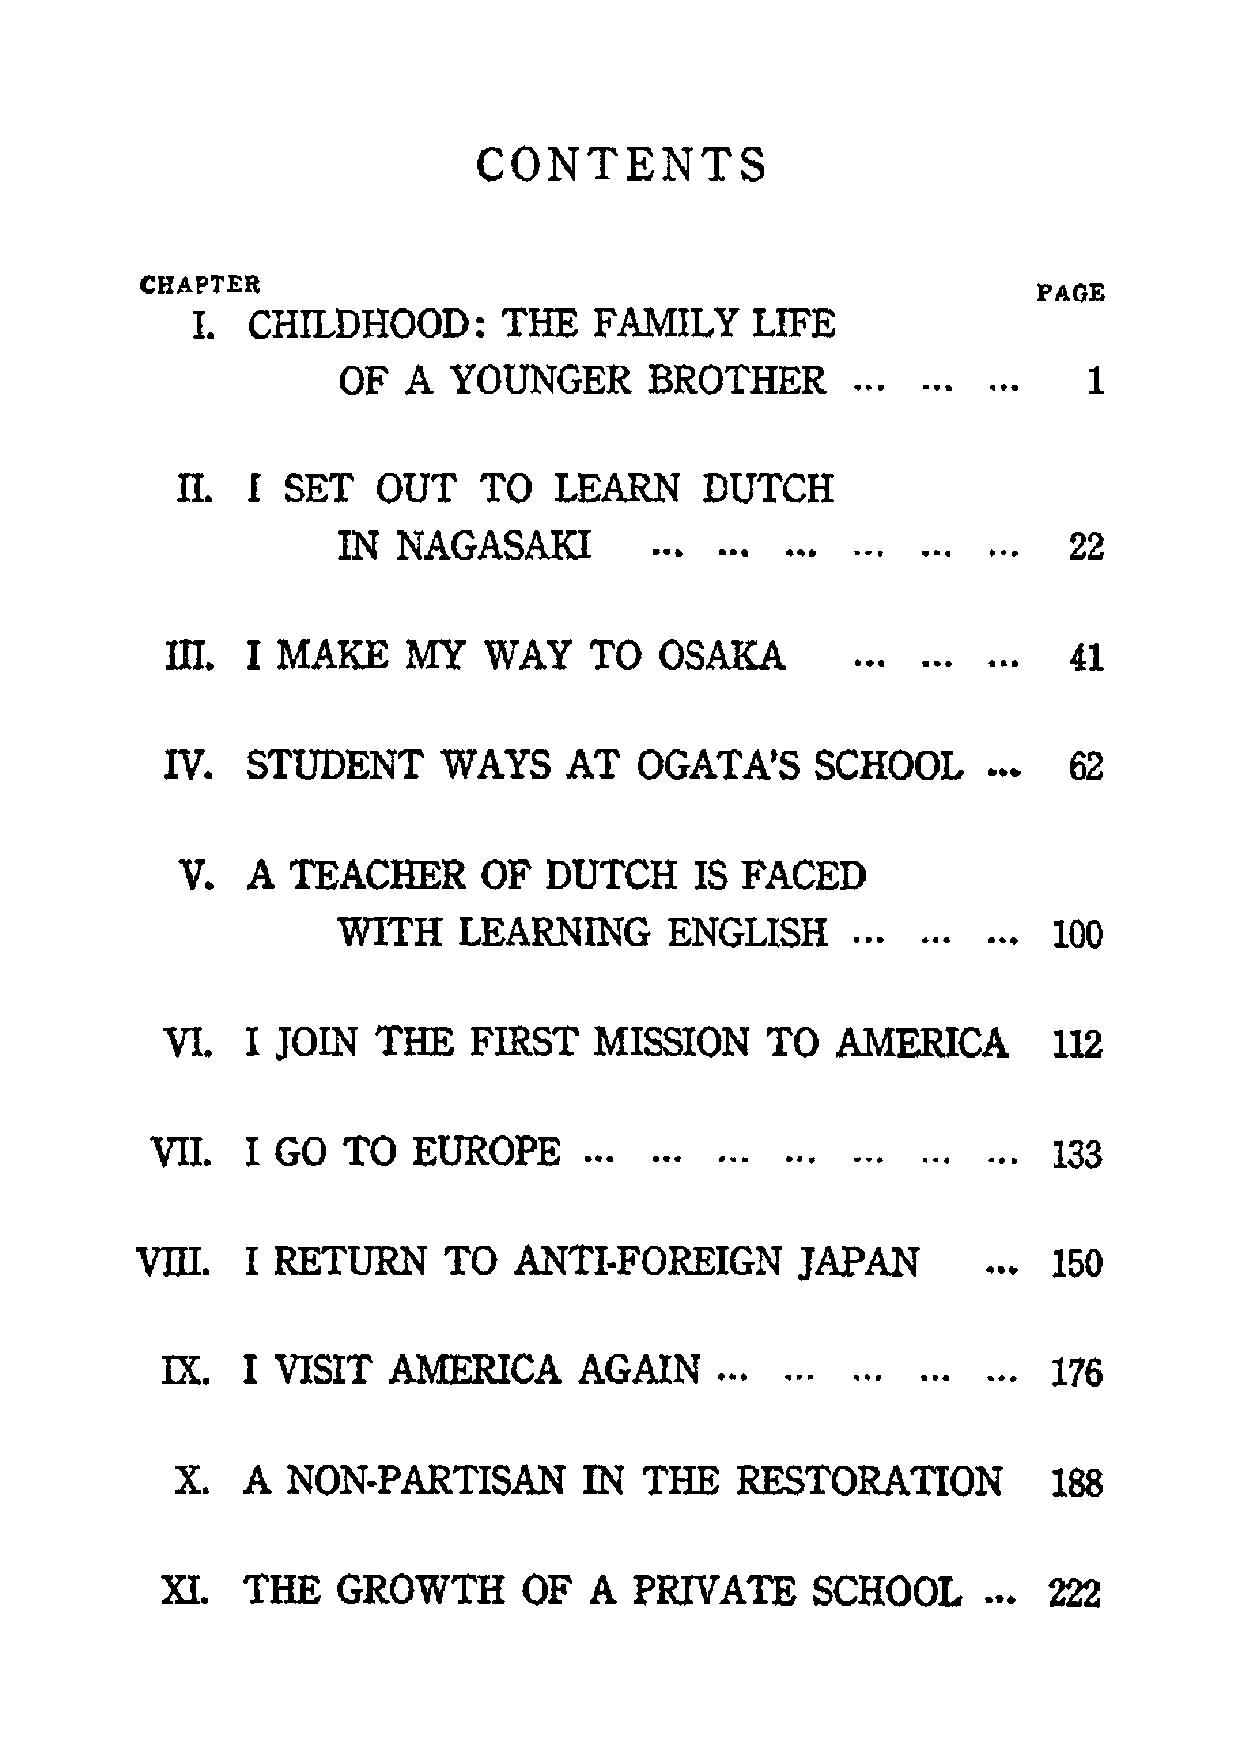TOC_chapter: (176, 854, 867, 947), (173, 466, 831, 562), (188, 303, 835, 396), (158, 1019, 1009, 1060), (156, 741, 968, 781), (156, 1569, 965, 1606), (174, 1460, 1002, 1496), (136, 1241, 925, 1278), (164, 635, 788, 672), (157, 1349, 702, 1389), (140, 1127, 564, 1172)
TOC_pagenumber: (1048, 1131, 1102, 1172), (1048, 915, 1107, 951), (1051, 1024, 1107, 1062), (1049, 1245, 1102, 1282), (1051, 1351, 1102, 1388), (1045, 1573, 1100, 1606), (1063, 523, 1107, 564), (1048, 1465, 1103, 1498), (1066, 636, 1104, 676), (1066, 747, 1108, 784), (1083, 356, 1106, 401)
chapter: (472, 144, 768, 184)
